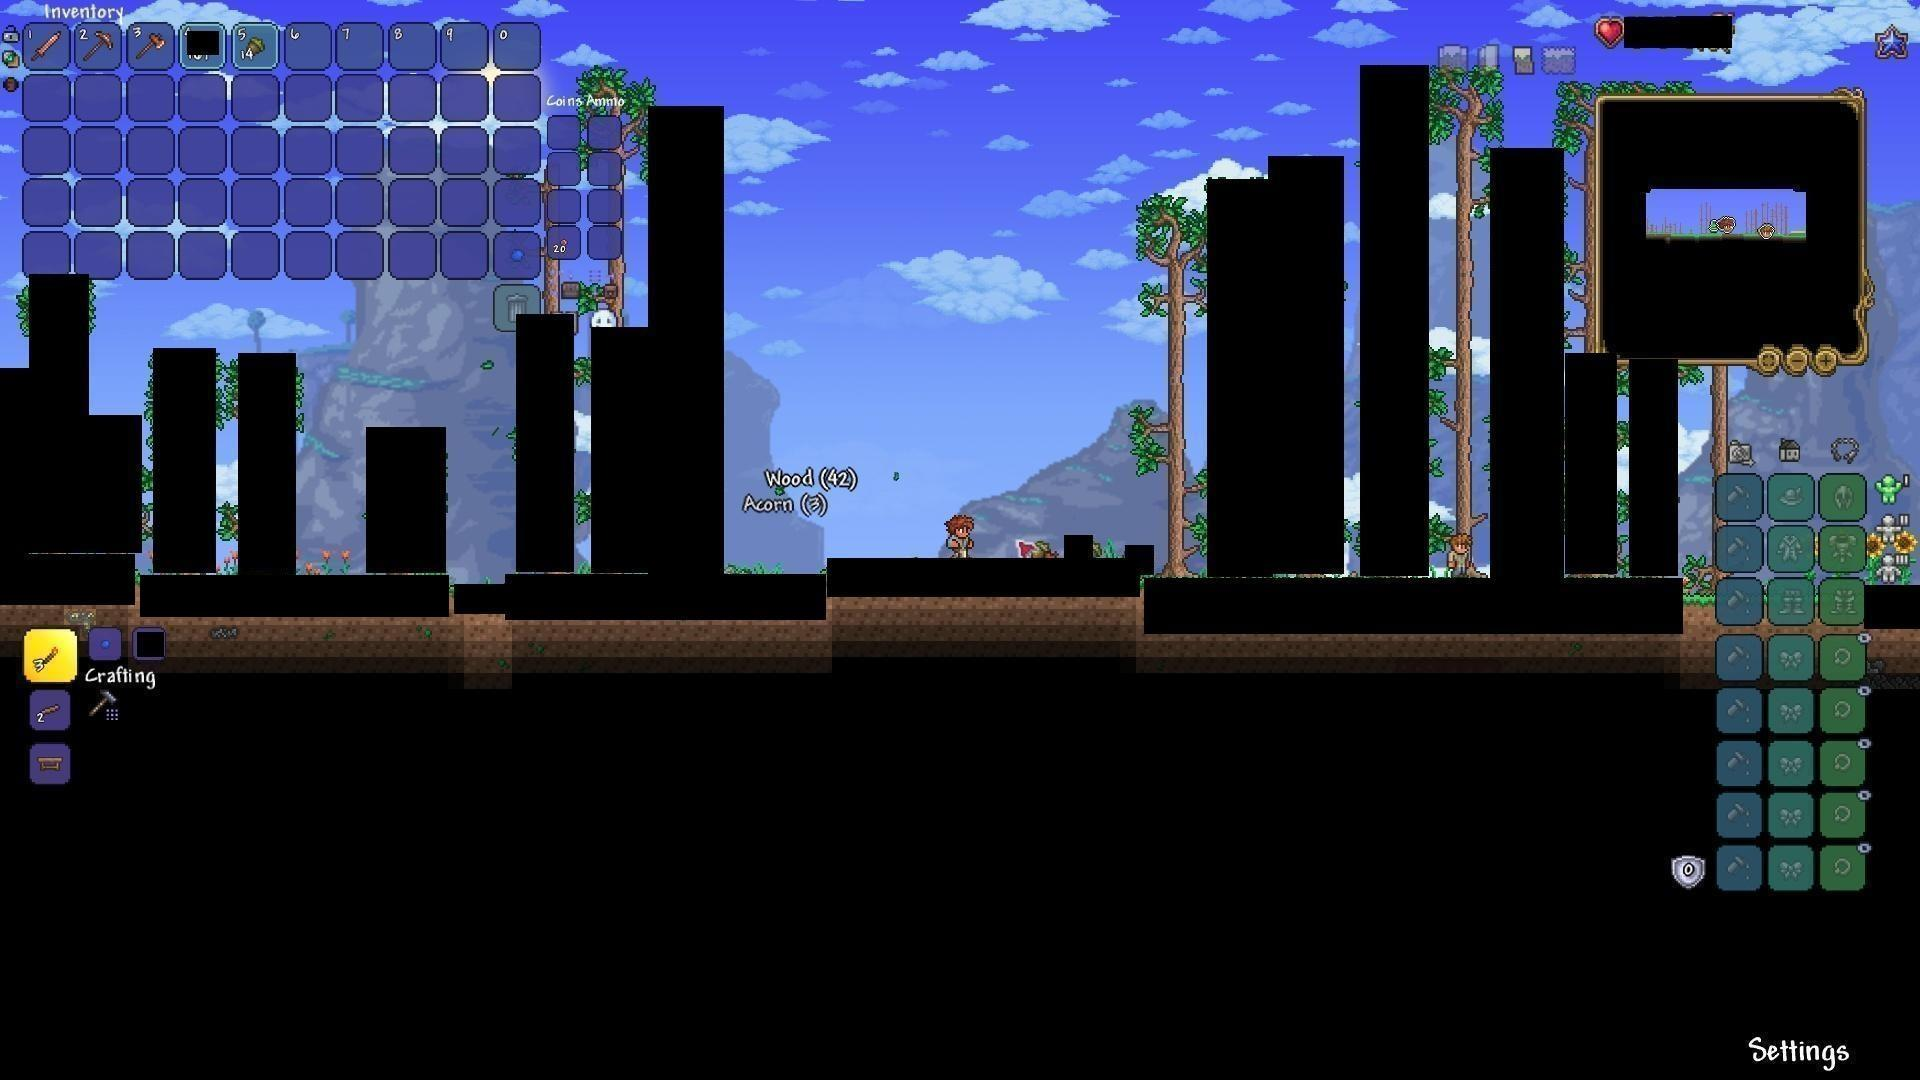heart: (1597, 15, 1627, 45)
tree: (1428, 69, 1490, 576), (1139, 189, 1211, 574)
workbench: (32, 752, 65, 775)
